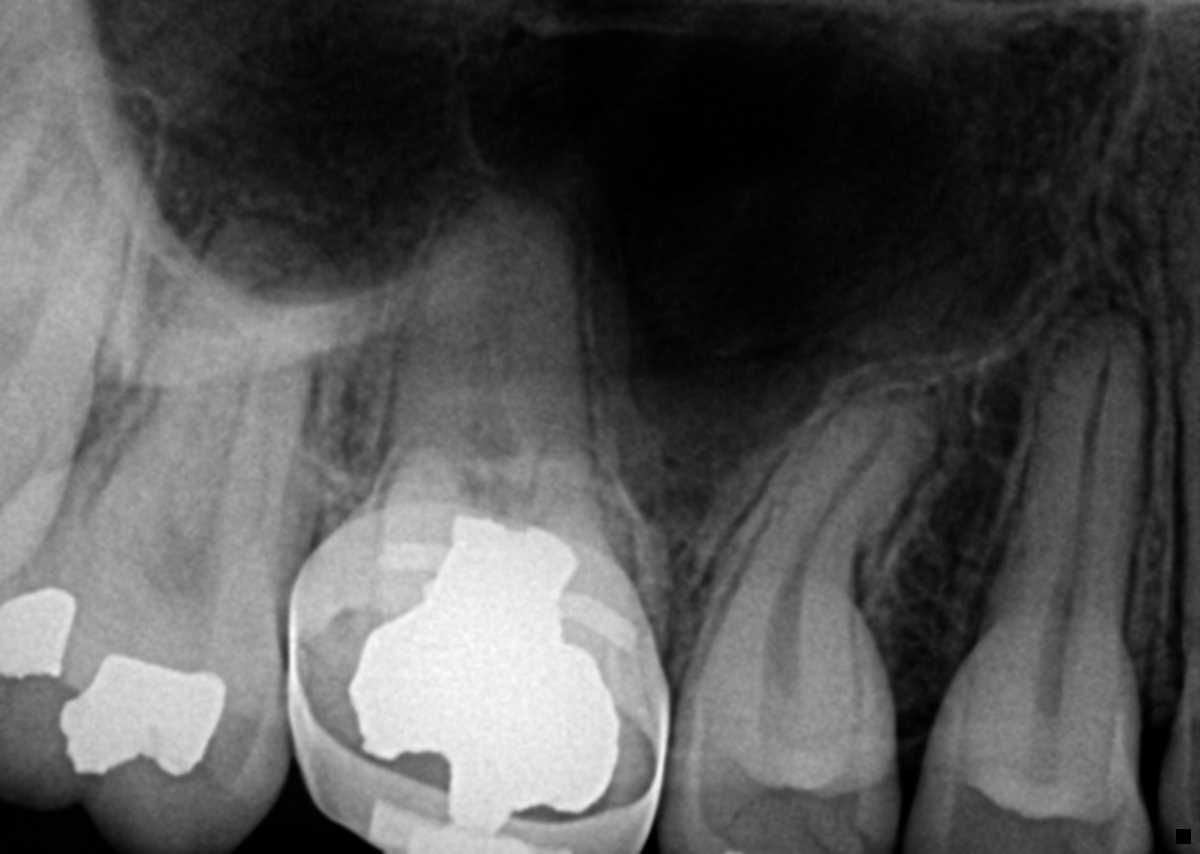Main Canal: (968, 303, 1150, 650), (764, 413, 893, 658), (1042, 335, 1126, 649)
Main Root: (698, 400, 946, 663), (0, 83, 162, 453)
Mesial Root: (381, 437, 478, 601), (520, 434, 608, 559)
Palatal Canal: (468, 210, 540, 473)
Palatal Root: (61, 208, 353, 592), (369, 187, 619, 571)
